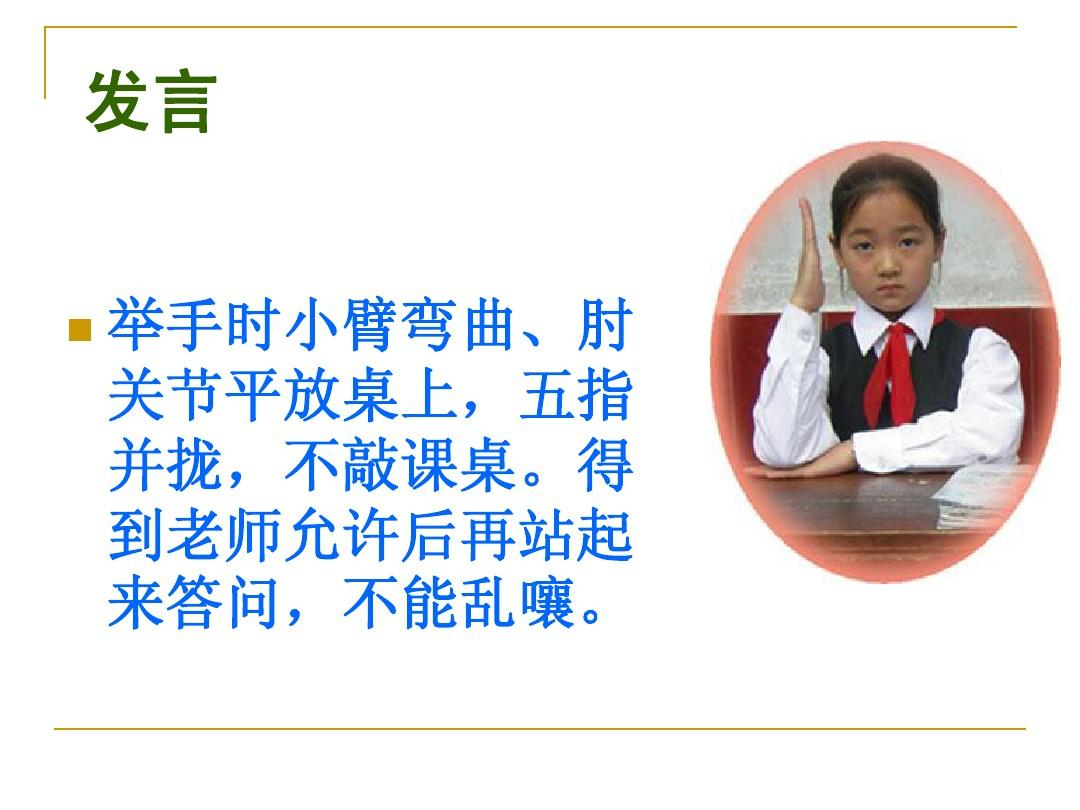handsup: (735, 149, 1036, 498)
